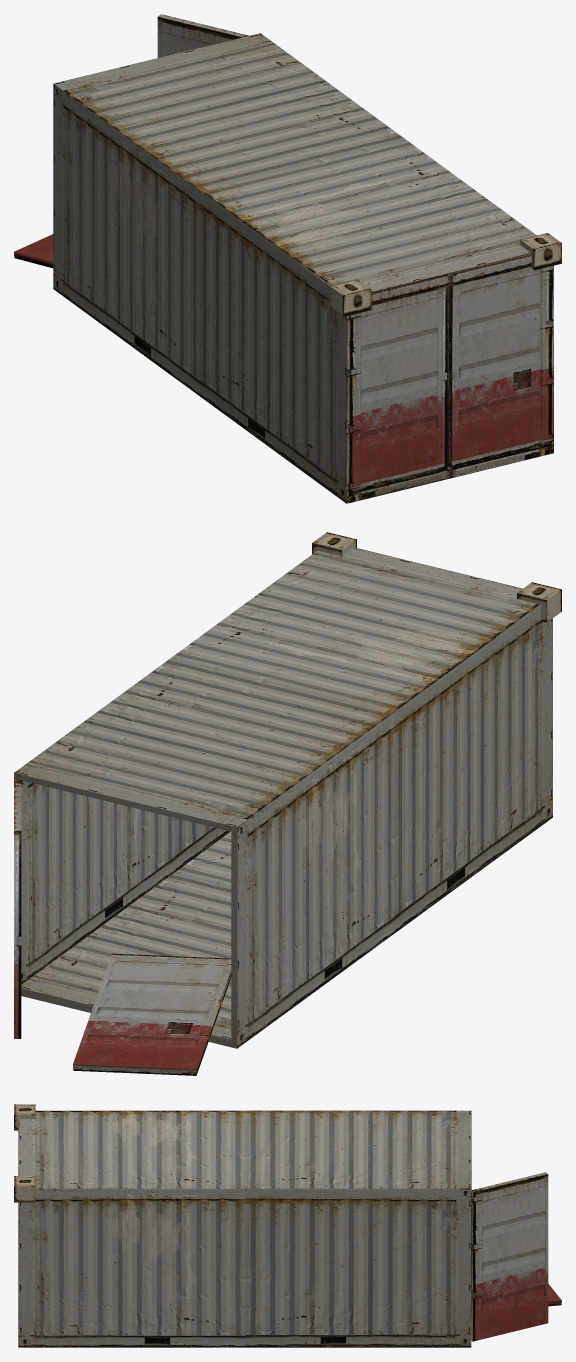
Rendered from Cover_Container01.glb.
The picture shows the model from 3 angles, top to bottom: view 1: azimuth 30°, elevation 25°; view 2: azimuth 150°, elevation 25°; view 3: azimuth 270°, elevation 25°; orthographic projection. The views are drawn at different scales.
Parts seen in each view (by area): view 1: xiutz_container01; view 2: xiutz_container01; view 3: xiutz_container01.
Part boxes in pixels (bbox=[...]): xiutz_container01: bbox=[14, 14, 561, 503]; xiutz_container01: bbox=[14, 532, 561, 1075]; xiutz_container01: bbox=[14, 1104, 561, 1347].
Bounding box in the file's own units: 4.81 × 4.47 × 13.57.
1 material, 1 textured.
